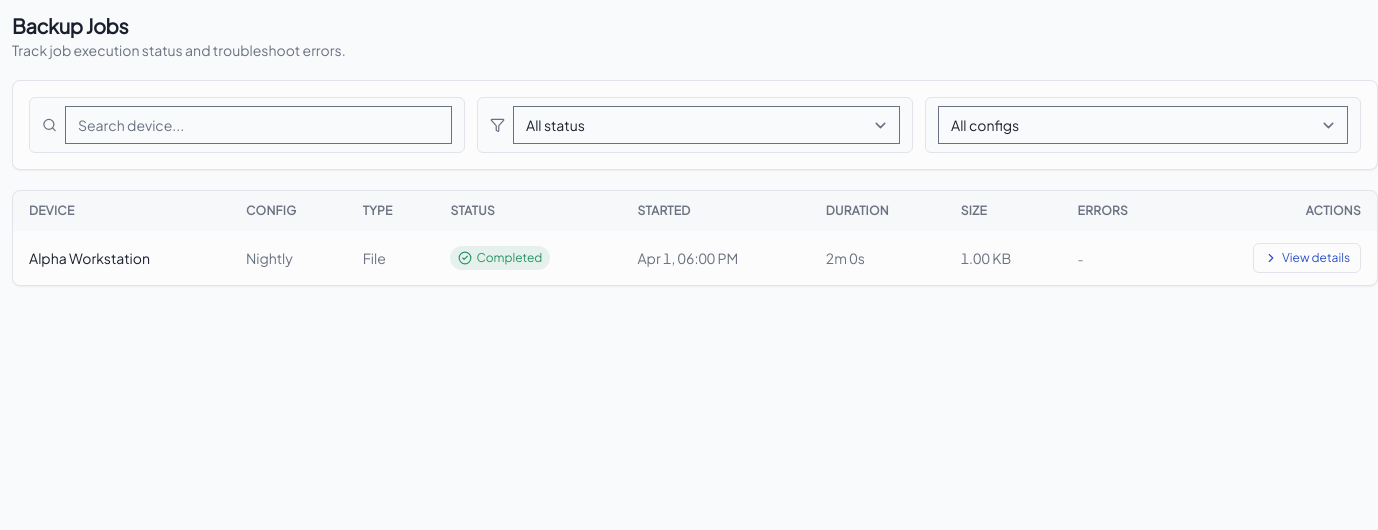
Scenario: BackupJobList › clamps uploaded to zero when referencedSize exceeds totalSize (no negatives)
Expected: the text "Alpha Workstation" is shown, [13, 231, 230, 285]
Click the button with aria-label "View details for Alpha Workstation backup" at (1307, 258), box [1253, 243, 1361, 273]
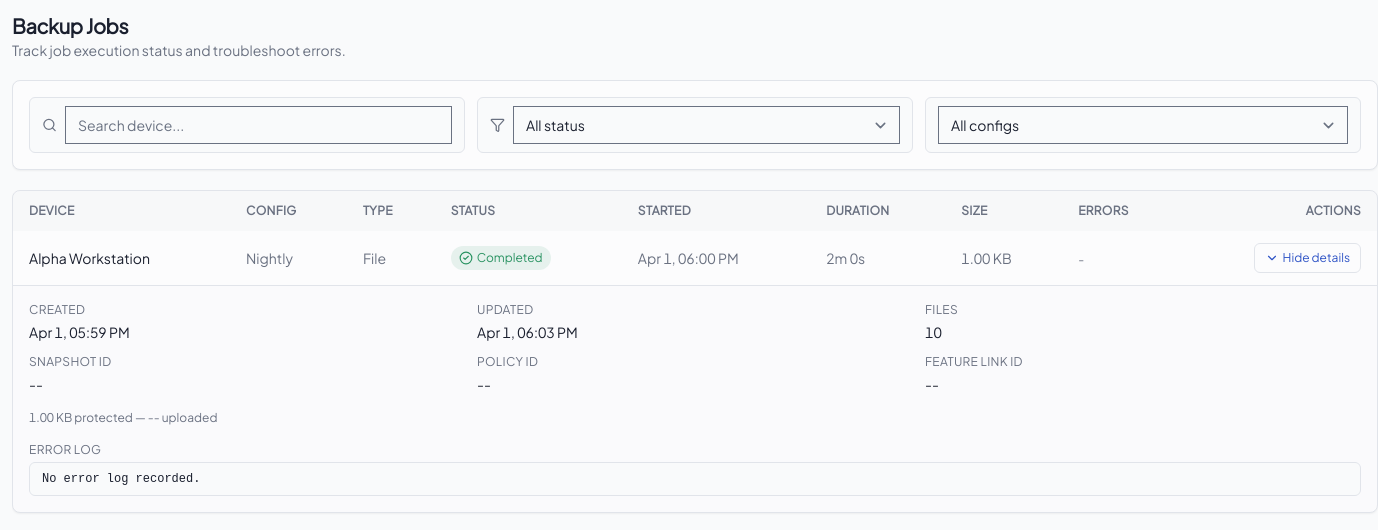
Now the text with test id "backup-job-savings" shows "1.00 KB", box [29, 410, 218, 425]
